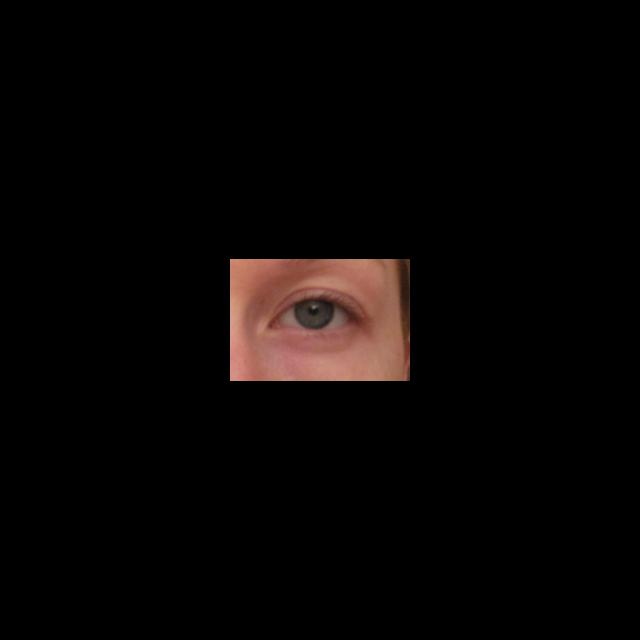eye: (280, 300, 349, 330)
iris: (296, 301, 335, 328)
